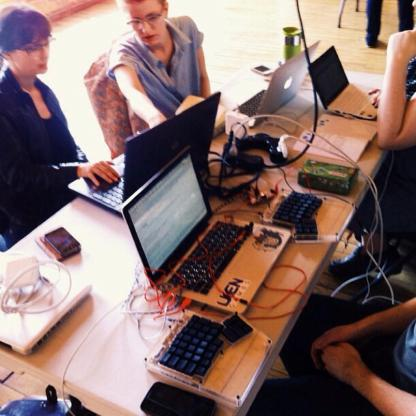board: (122, 146, 292, 316), (67, 92, 219, 217), (220, 41, 320, 128), (306, 45, 380, 120)
